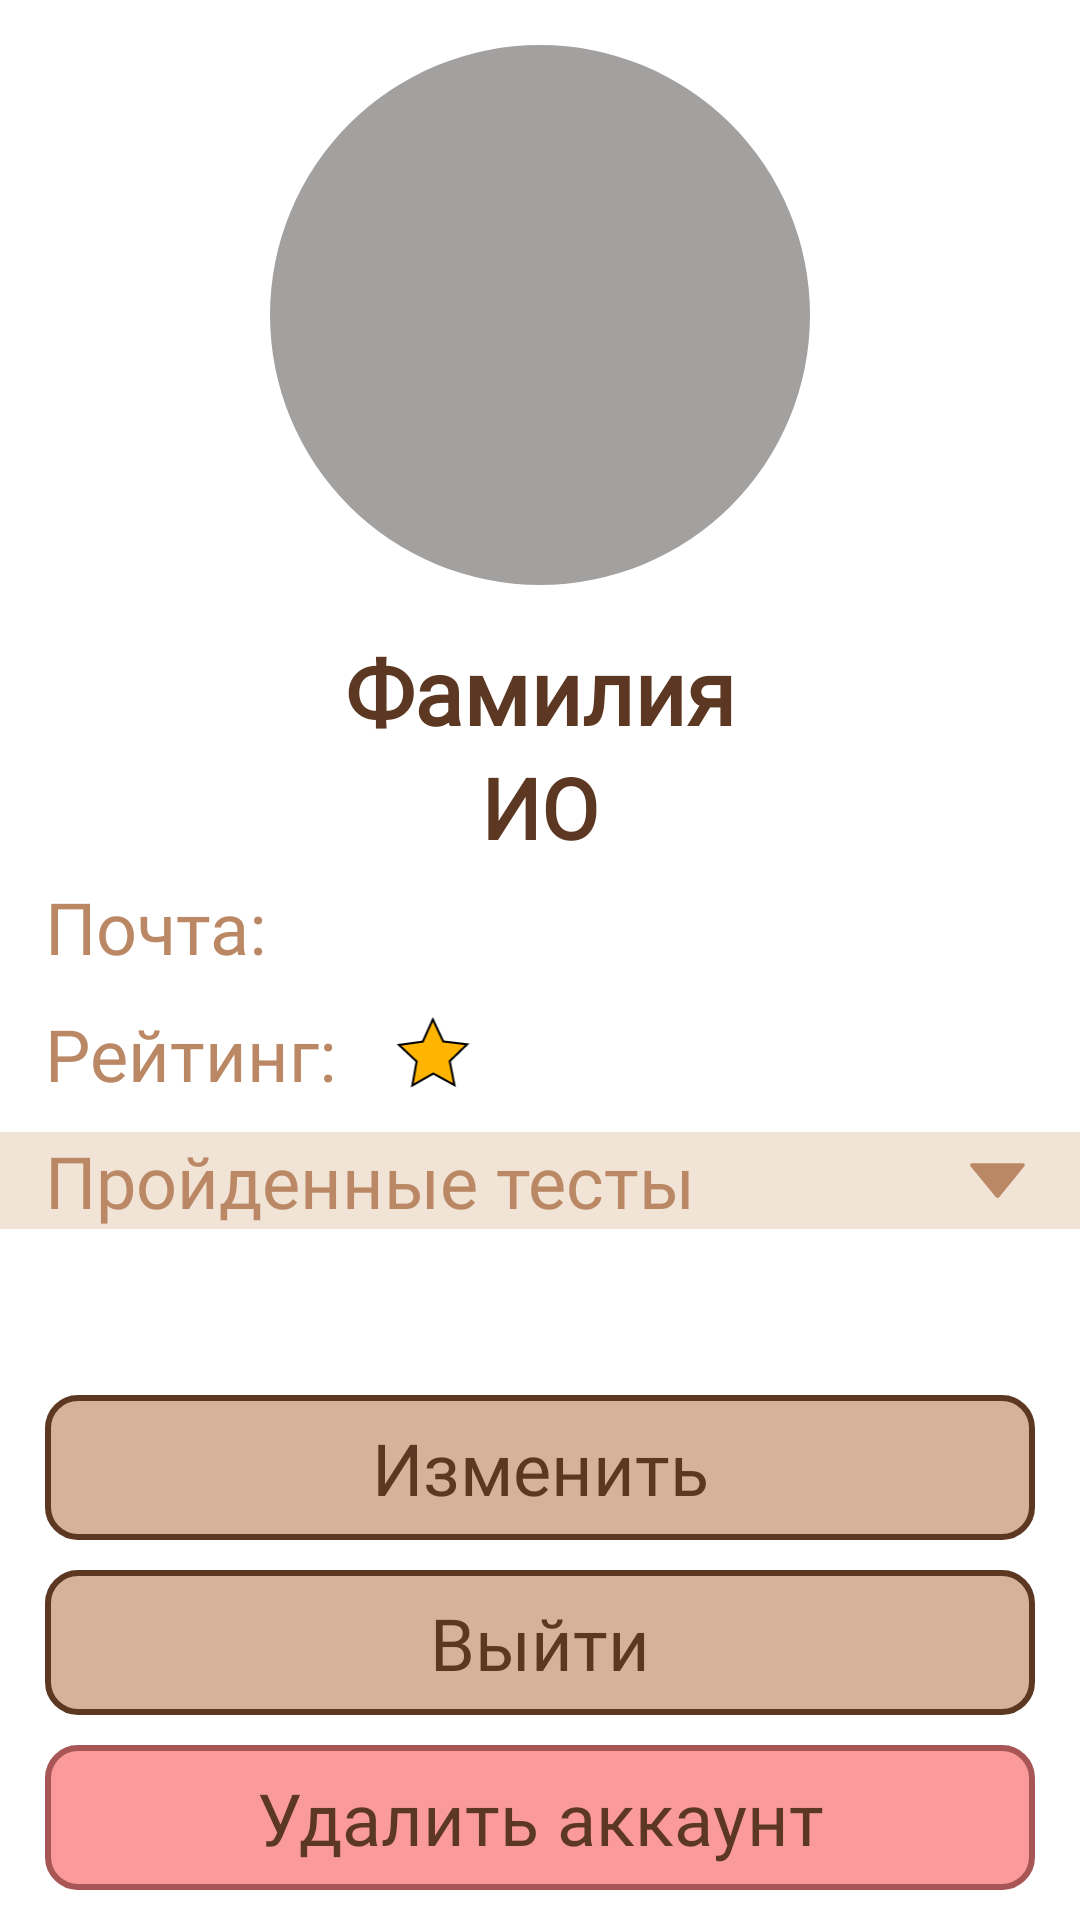

Named icons in this screenshot (1080 x 1920) and their centers, (x=x, y=y):
down: (x=997, y=1180)
star: (x=433, y=1052)
